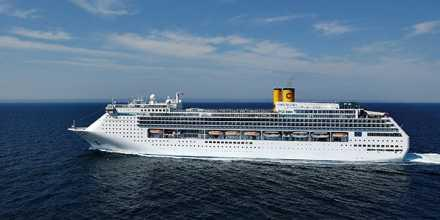youlun: (71, 73, 412, 156)
